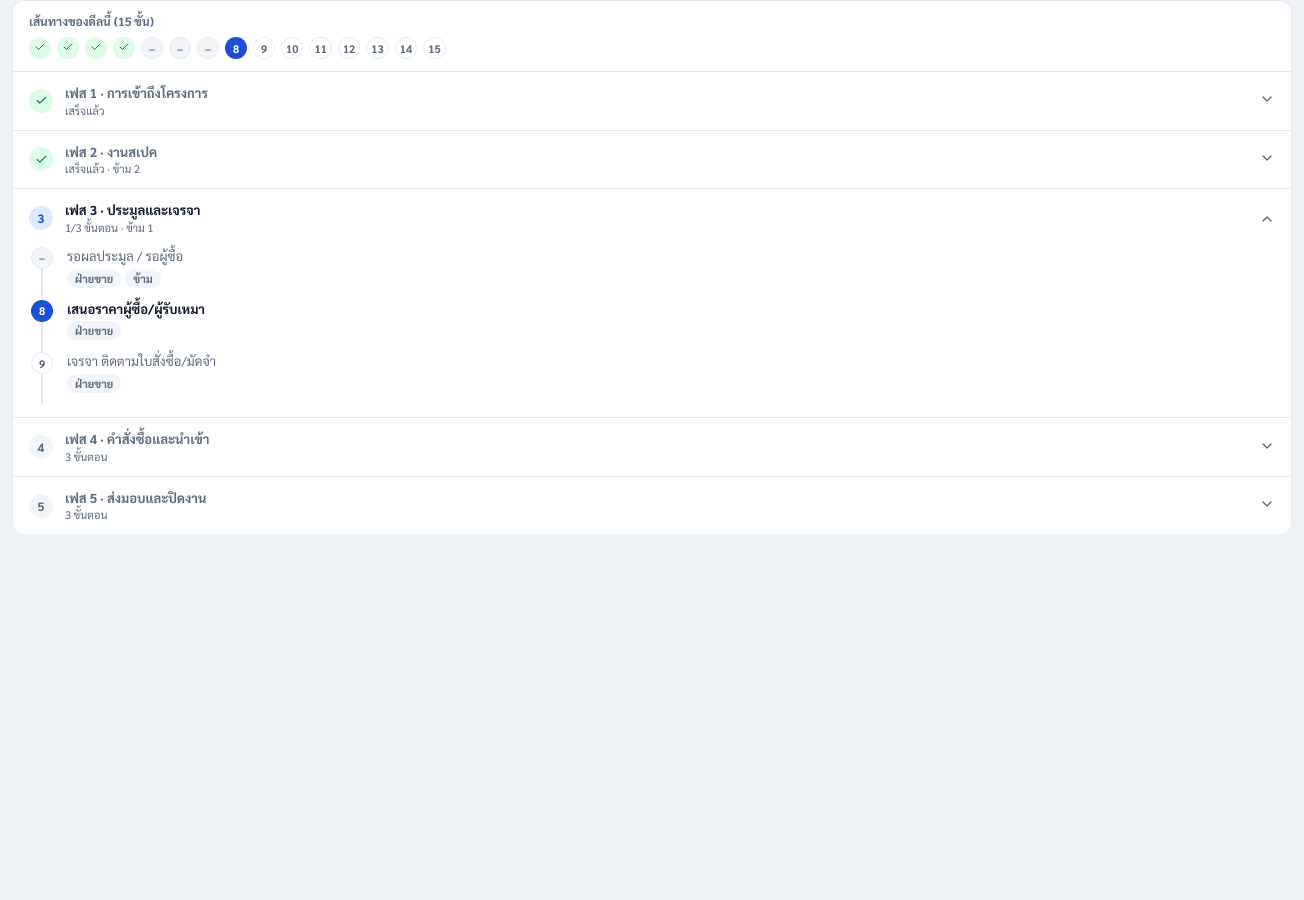
Test: DealStageStepper marks the stages a deal skipped › an owner skip (4 → 8) reads ข้าม on 5, 6 and 7 in the ribbon, the phase headers and the rows
Expected: the text "เสร็จแล้ว · ข้าม 2" is shown, [65,161,140,176]
Expected: the text "1/3 ขั้นตอน · ข้าม 1" is shown, [65,220,154,235]
Click the button "เฟส 2 · งานสเปค เสร็จแล้ว · ข้าม 2".
click(132, 151)  # box [13,131,1291,188]
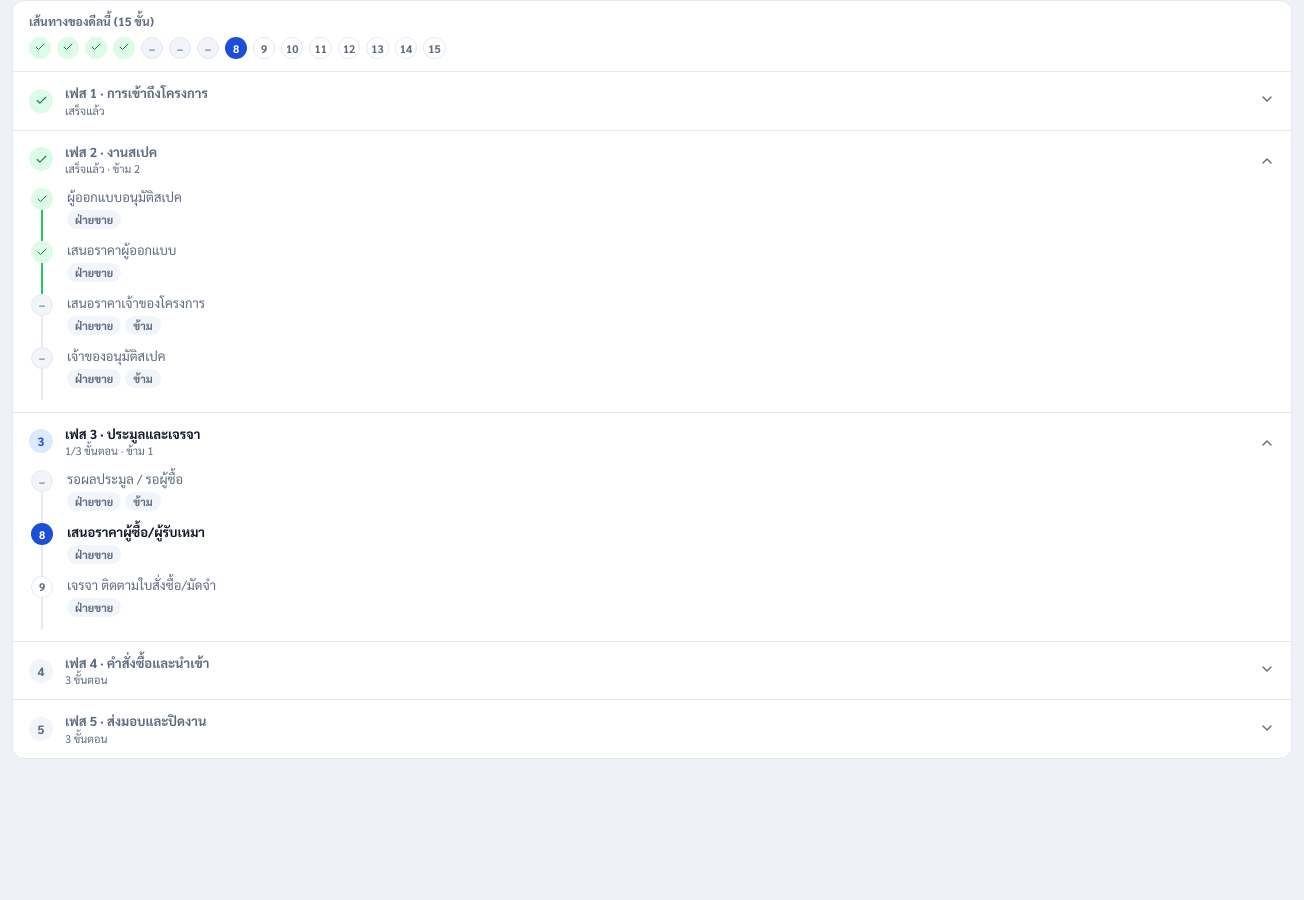
Expected: the element with test id "stage-row" does not show "ข้าม"
Expected: the element with test id "stage-row" shows "ข้าม", [133,318,153,333]
